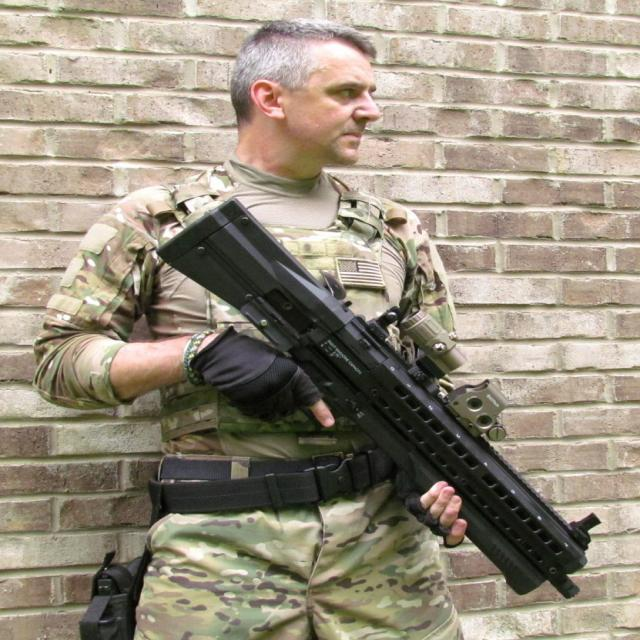shotgun: (148, 194, 638, 626)
